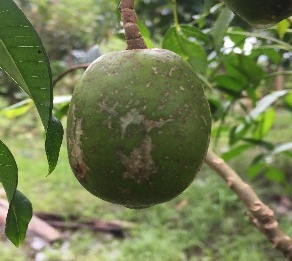Coc: (61, 34, 219, 217)
